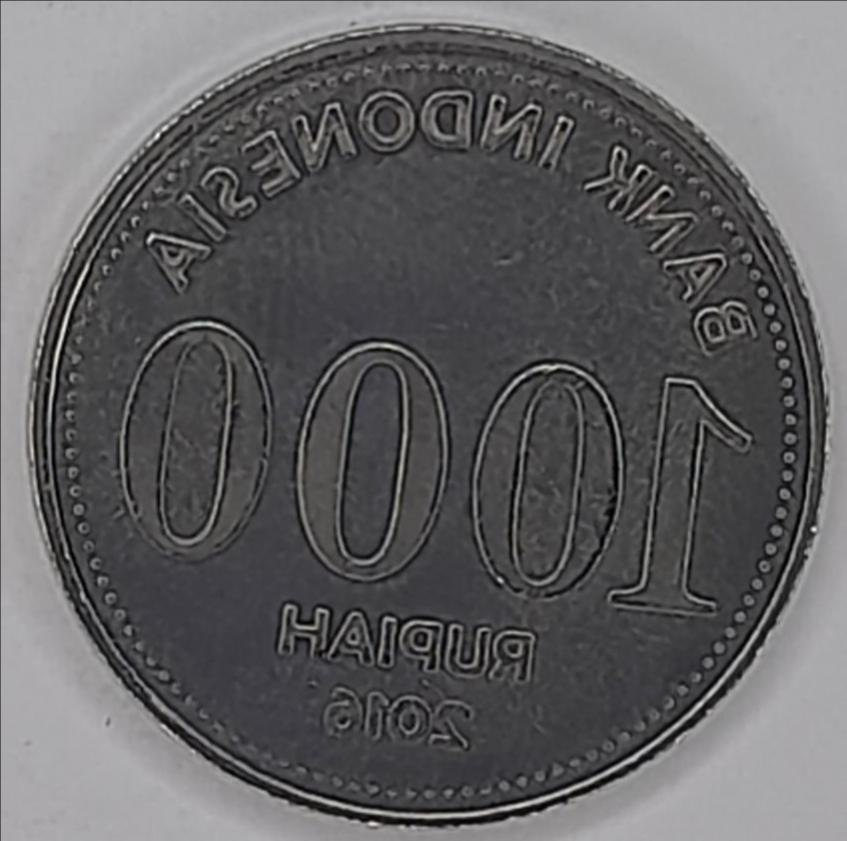coin_1000_e2016: (14, 17, 836, 841)
